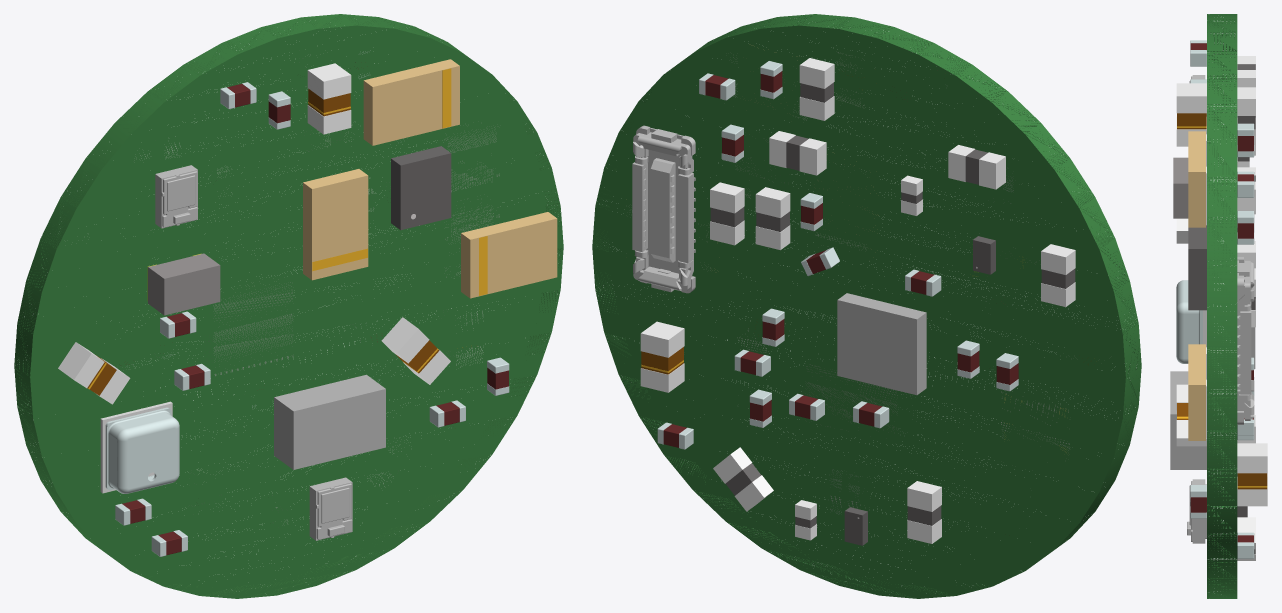
File: wpi-sensor.glb
The picture shows the model from 3 angles, left to right: view 1: azimuth 30°, elevation 25°; view 2: azimuth 150°, elevation 25°; view 3: azimuth 270°, elevation 25°; orthographic projection. The views are drawn at different scales.
Visible parts, largest first — view 1: g_Body1, g_Body146, g_Body144, g_Body151, g_Body143, g_Body6, g_Body243, g_Body147, g_Body149, g_Body150, g_Body25, g_Body26 (+3 smaller); view 2: g_Body1, g_Body152, g_Body141, g_Body24, g_Body22, g_Body21, g_Body23, g_Body2, g_Body324, g_Body228, g_Body225, g_Body34 (+4 smaller); view 3: g_Body1, g_Body152, g_Body143, g_Body151, g_Body243, g_Body146, g_Body6, g_Body147, g_Body24, g_Body25, g_Body149, g_Body34 (+25 smaller).
Part boxes in pixels (x1,y1,x2,y2): g_Body1: (14, 14, 563, 598); g_Body146: (274, 374, 385, 469); g_Body144: (303, 169, 368, 280); g_Body151: (461, 212, 557, 298); g_Body143: (363, 59, 459, 145); g_Body6: (105, 407, 179, 493); g_Body243: (391, 146, 451, 230); g_Body147: (148, 253, 220, 315); g_Body149: (309, 477, 352, 540); g_Body150: (155, 165, 197, 228); g_Body25: (307, 63, 351, 99); g_Body26: (381, 317, 429, 363); g_Body1: (592, 14, 1141, 598); g_Body152: (632, 125, 695, 293); g_Body141: (837, 293, 926, 395); g_Body24: (640, 321, 684, 357); g_Body22: (799, 138, 826, 175); g_Body21: (755, 187, 790, 217); g_Body23: (799, 58, 834, 88); g_Body2: (710, 182, 744, 213); g_Body324: (1041, 244, 1075, 274); g_Body228: (907, 481, 941, 511); g_Body225: (979, 152, 1005, 189); g_Body34: (640, 363, 684, 392); g_Body1: (1207, 14, 1237, 598); g_Body152: (1237, 256, 1254, 424); g_Body143: (1188, 131, 1205, 227); g_Body151: (1188, 344, 1205, 440); g_Body243: (1188, 225, 1206, 310); g_Body146: (1170, 371, 1206, 469); g_Body6: (1176, 280, 1202, 363); g_Body147: (1173, 157, 1188, 218); g_Body24: (1237, 443, 1267, 473); g_Body25: (1176, 83, 1206, 113); g_Body149: (1187, 479, 1206, 543); g_Body34: (1237, 477, 1267, 506).
Bounding box in the file's own units: 1.9 × 1.9 × 0.3169.
